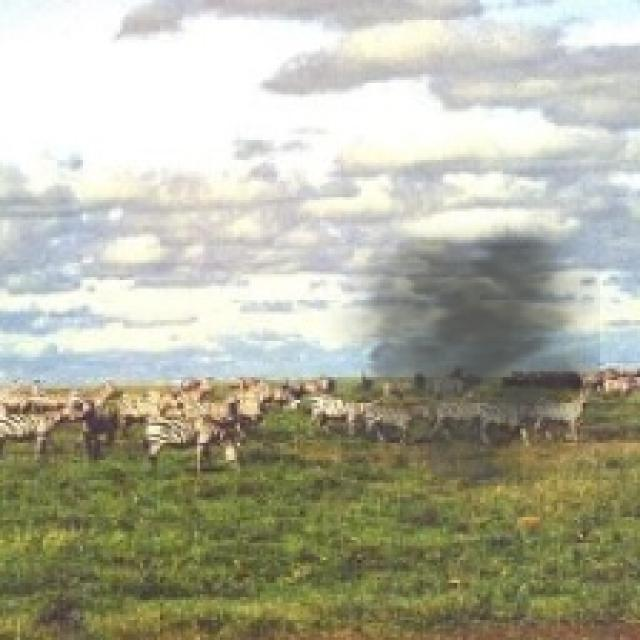smoke: (317, 214, 600, 486)
